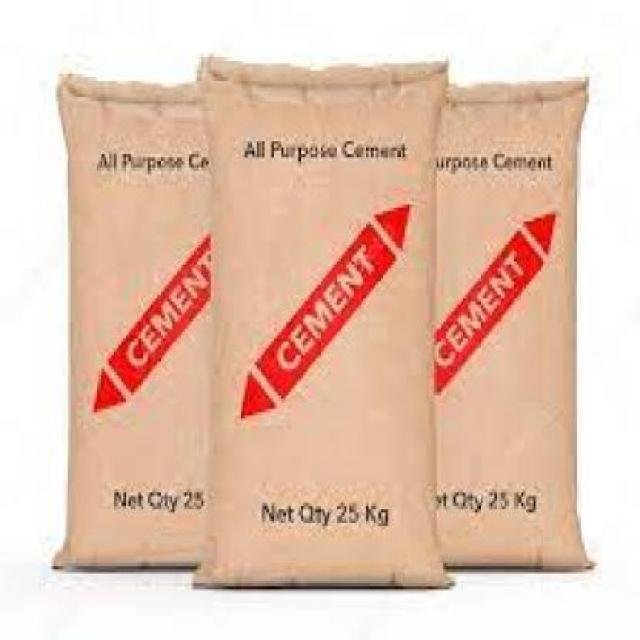gunny_bag: (192, 64, 450, 587), (50, 78, 212, 568), (433, 80, 593, 568)
